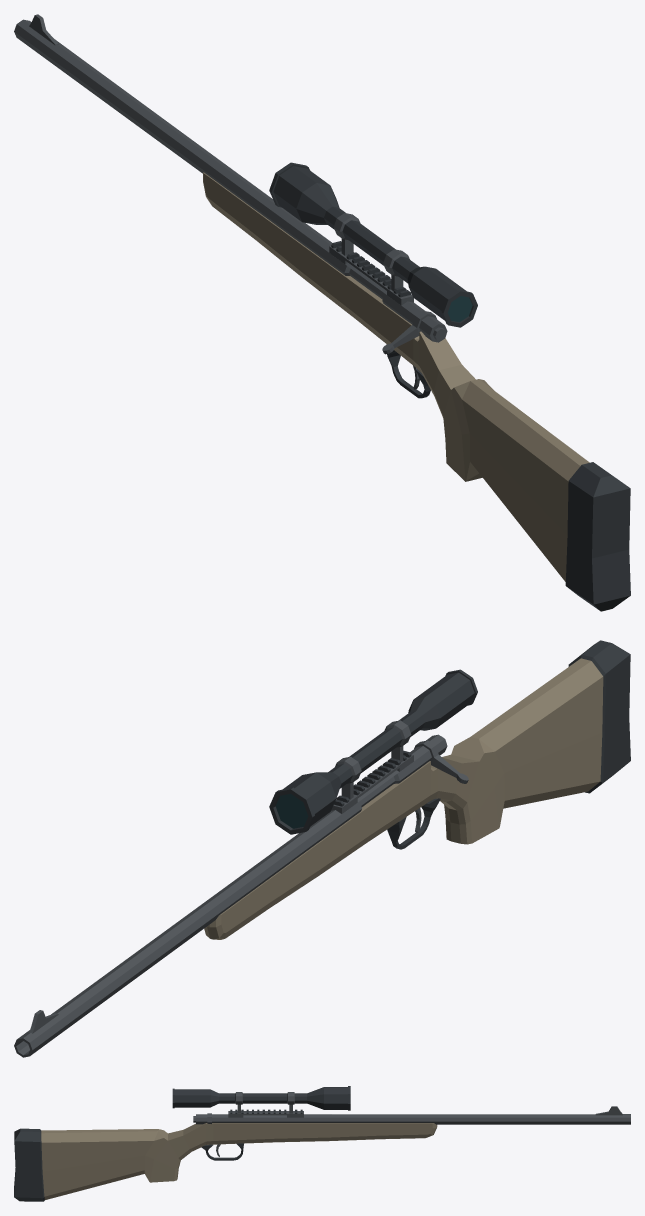
The model's file is sniper.glb.
3 renders of one model, top to bottom at view 1: azimuth 30°, elevation 25°; view 2: azimuth 150°, elevation 25°; view 3: azimuth 270°, elevation 25°, orthographic. The views are drawn at different scales.
Visible parts, largest first — view 1: SniperModel; view 2: SniperModel; view 3: SniperModel.
Part boxes in pixels (x1,y1,x2,y2): SniperModel: [14, 14, 630, 611]; SniperModel: [14, 640, 630, 1057]; SniperModel: [14, 1086, 630, 1201].
Bounding box in the file's own units: 0.068 × 0.2197 × 1.08.
